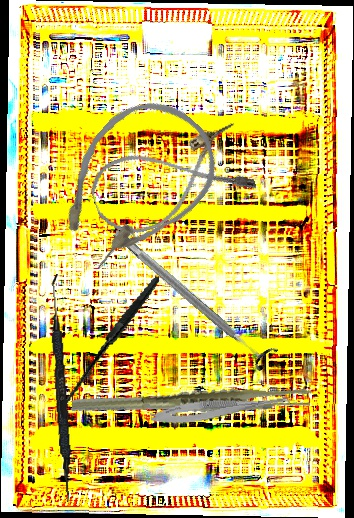Cannula: (31, 79, 237, 290), (83, 119, 259, 244)
Fixation Ring: (105, 220, 279, 374)
Hook Surgical: (36, 276, 188, 423)
Micro Scissor: (149, 385, 297, 430)
Spatula Surgical: (44, 274, 78, 503)
Tissue Forceps: (70, 352, 313, 450)
